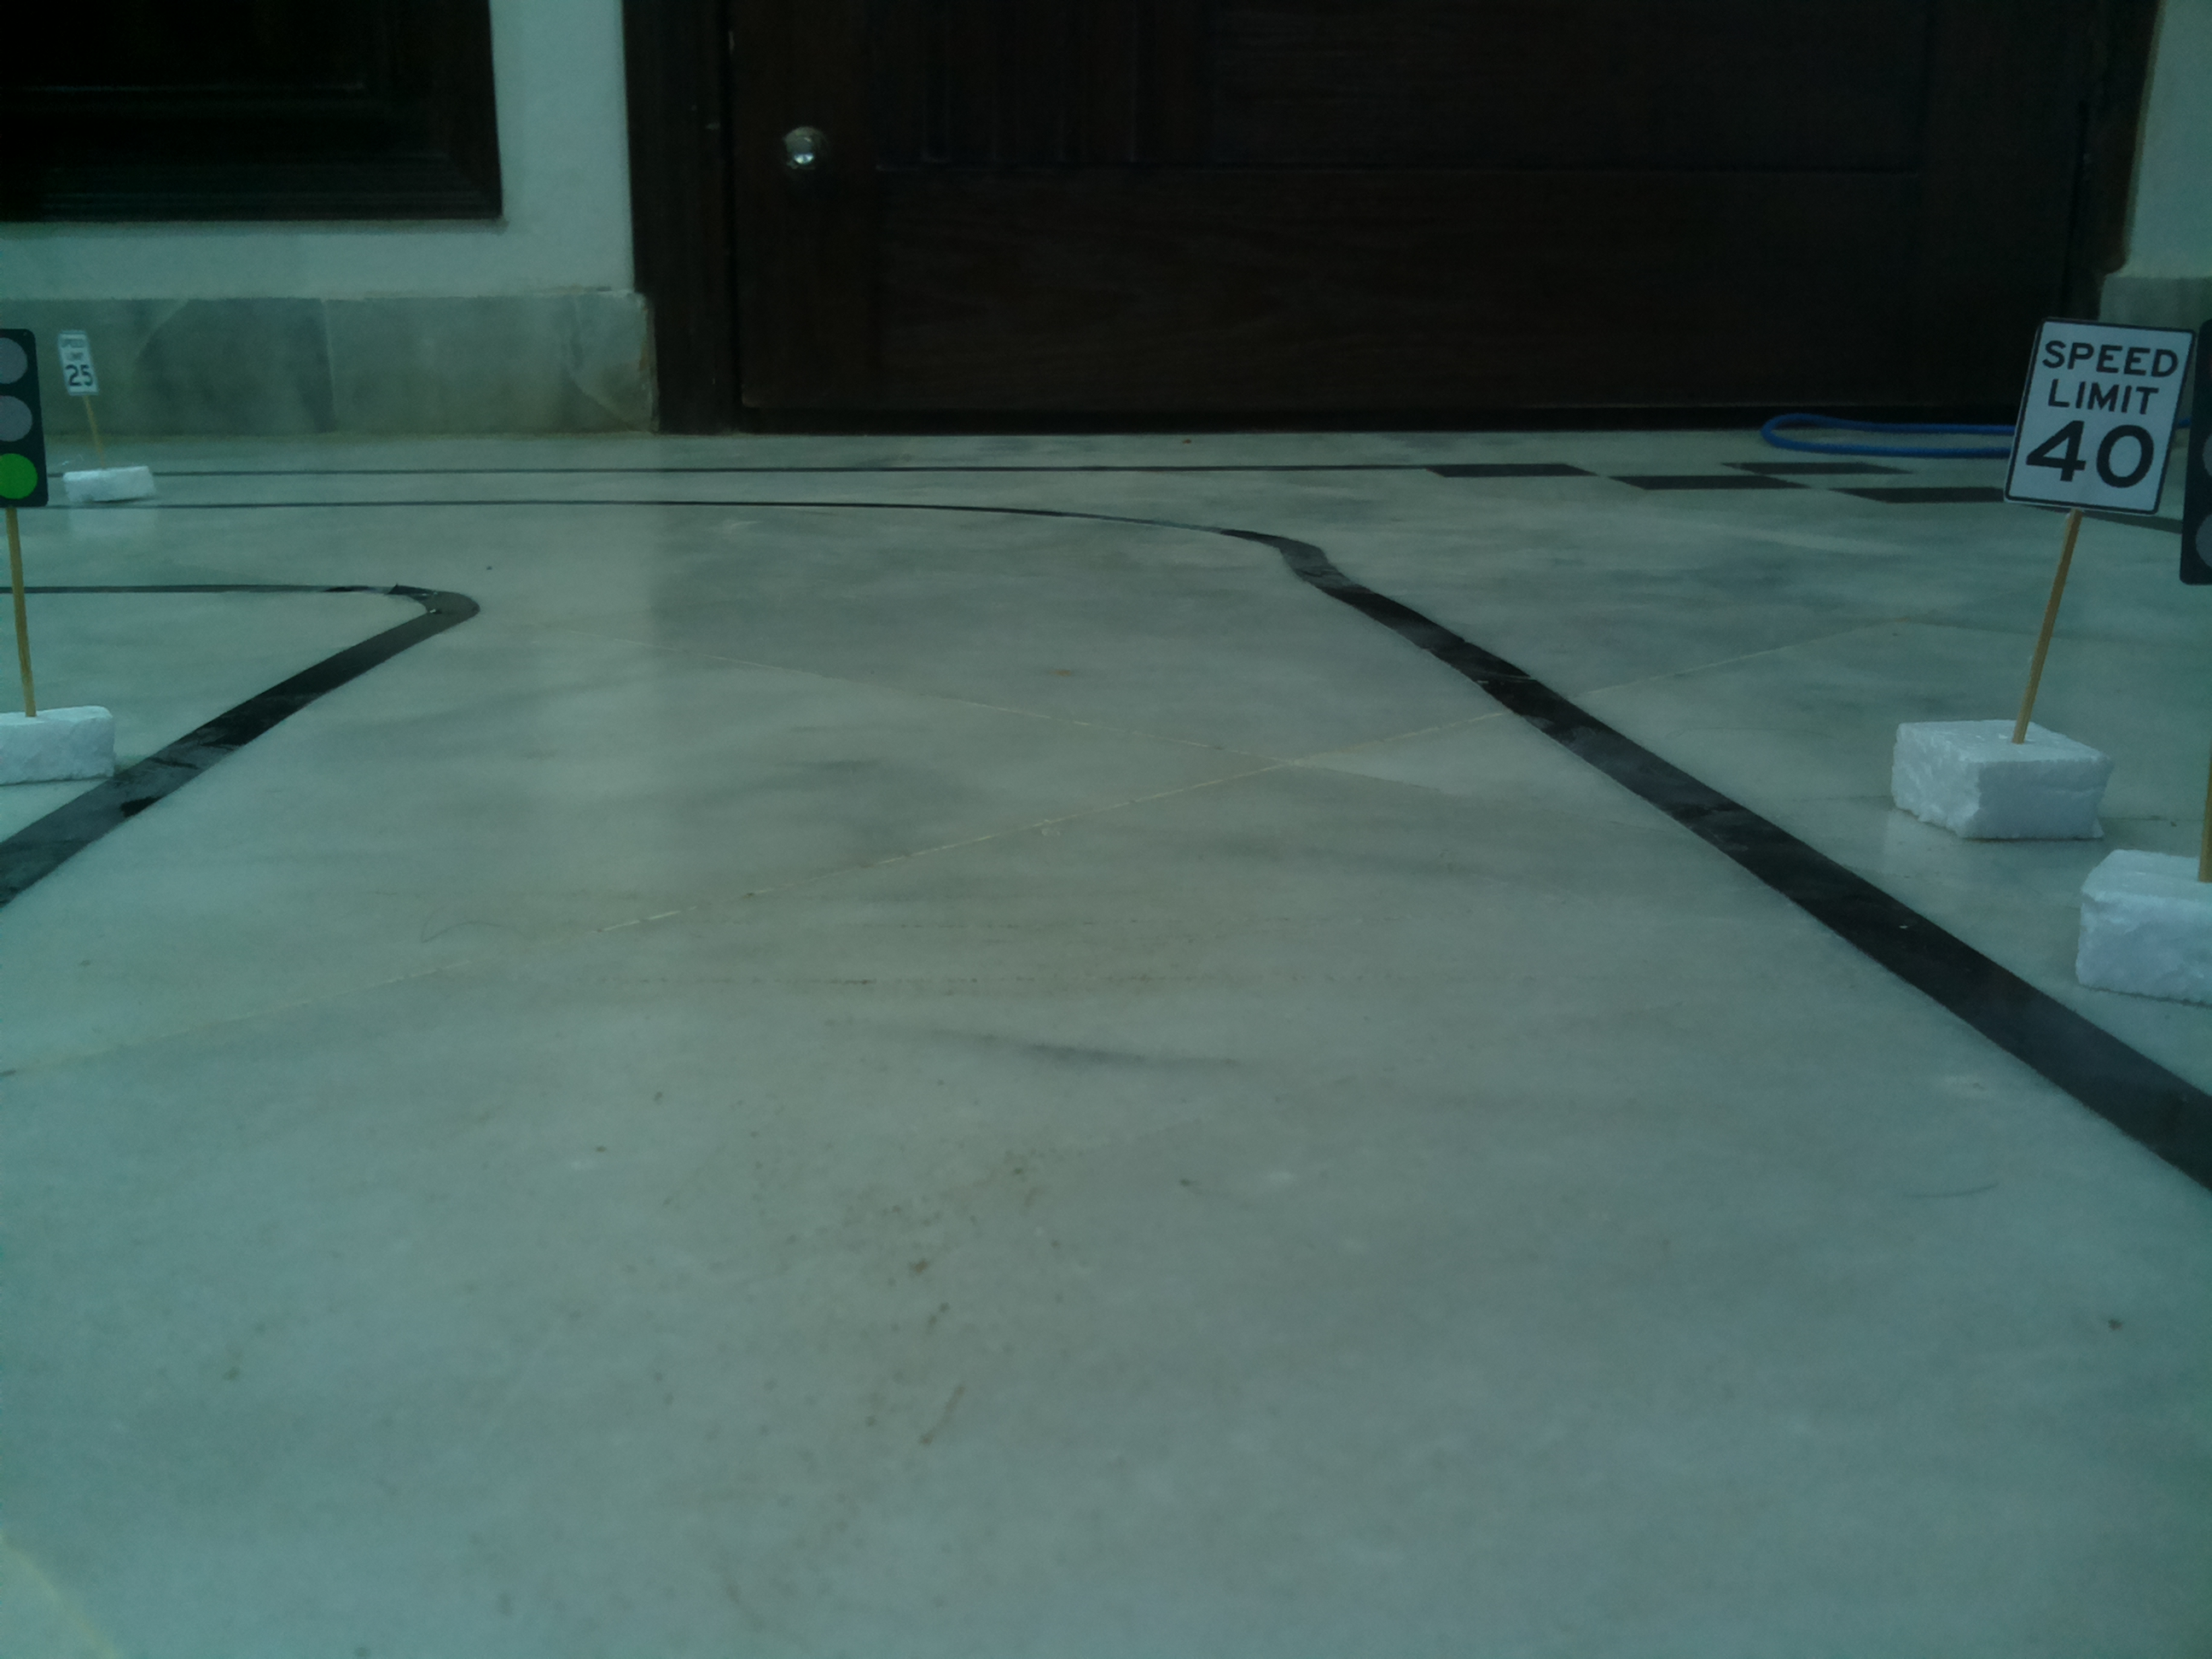Green traffic light: (0, 329, 54, 518)
Speed limit 40: (2000, 315, 2205, 514)
